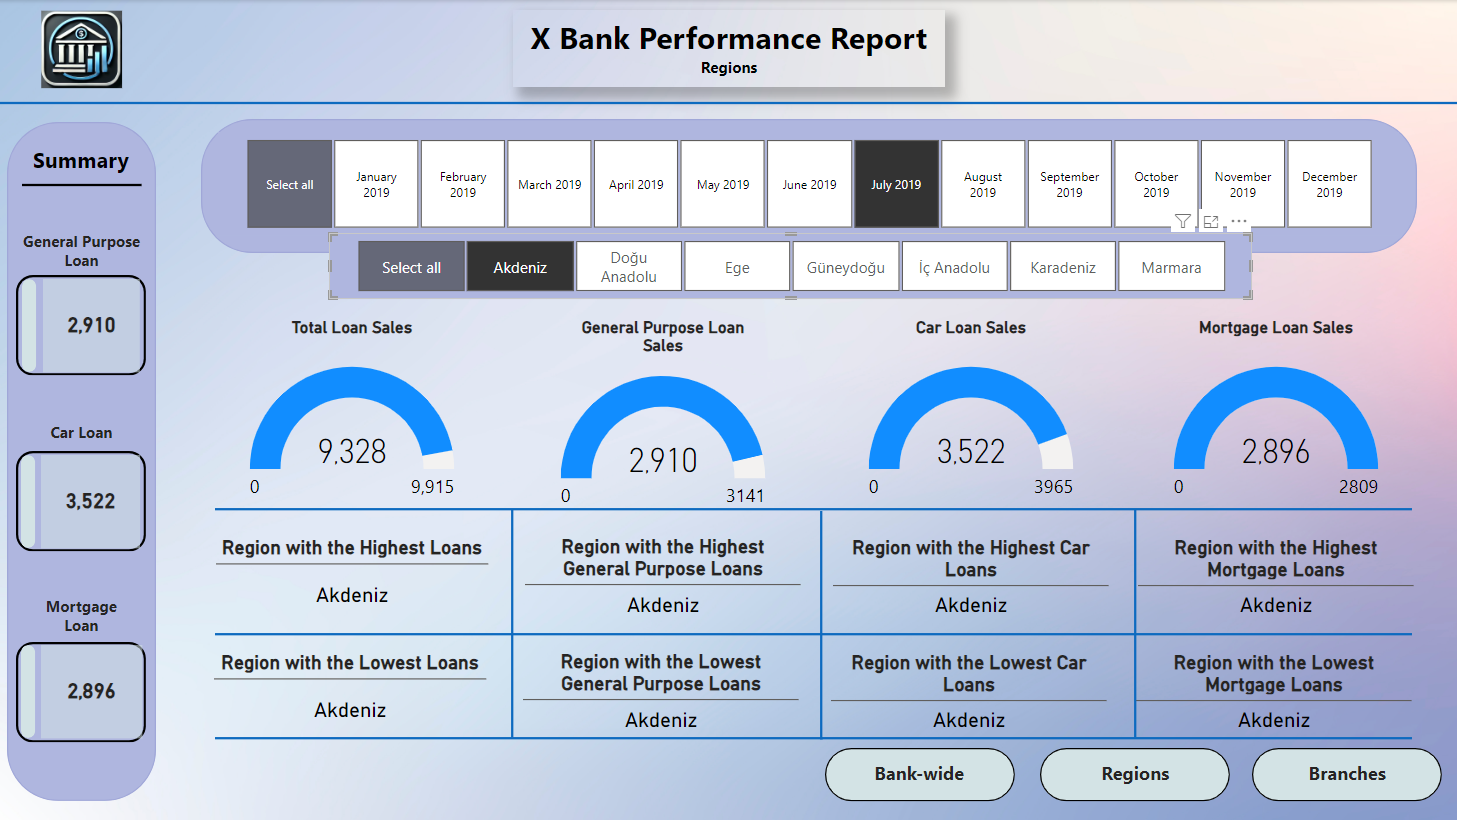

Layout of this report page (visuals, bound fields, positions):
{"tool":"powerbi","page":{"name":"Regions","canvas":[1280,720],"ordinal":1},"visuals":[{"type":"textbox","box":[450.4,8.8,379.3,68.5],"z":0},{"type":"shape","box":[0,58,1280.2,65],"z":1000},{"type":"shape","box":[6.1,107.1,130.8,596.2],"z":2000},{"type":"textbox","box":[14.2,123.3,114.2,39.2],"z":3000},{"type":"shape","box":[19.3,147.5,105.4,29.9],"z":4000},{"type":"shape","box":[14.2,241.7,114.2,88.3],"z":5000},{"type":"shape","box":[14.2,396.2,114.2,88.3],"z":6000},{"type":"shape","box":[14.2,563.3,114.2,88.3],"z":7000},{"type":"textbox","box":[7.5,197.5,127.5,49.2],"z":8000},{"type":"shape","box":[19.2,245,12.5,81.7],"z":9000},{"type":"shape","box":[18.3,399.5,12.5,81.7],"z":10000},{"type":"shape","box":[18.3,566.7,12.5,81.7],"z":11000},{"type":"textbox","box":[30,365.4,83.3,30.8],"z":12000},{"type":"image","box":[20,4.2,102.5,78.3],"z":13000},{"type":"textbox","box":[20,518.3,102.5,45],"z":14000},{"type":"shape","box":[1099.2,656.7,166.7,46.7],"z":15000},{"type":"shape","box":[913.3,656.7,166.7,46.7],"z":16000},{"type":"shape","box":[724.2,656.7,166.7,46.7],"z":17000},{"type":"textbox","box":[745.8,663.3,123.3,33.3],"z":18000},{"type":"textbox","box":[935,663.3,123.3,33.3],"z":19000},{"type":"textbox","box":[1120.8,663.3,123.3,33.3],"z":20000},{"type":"shape","box":[176.5,104.5,1067.7,117.7],"z":21000},{"type":"slicer","fields":{"Values":["Loans.Ay"]},"box":[191.4,115.9,1037,91.3],"z":22000},{"type":"slicer","fields":{"Values":["Branches.Bolgesi"]},"box":[288.9,204.6,810.4,58],"z":23000},{"type":"gauge","title":"Total Loan Sales","fields":{"Y":["Measurements.Total Loan Sales"],"MaxValue":["Measurements.Total Loan Target"]},"box":[214.2,279.2,189.7,190.5],"z":24000},{"type":"gauge","title":"Car Loan Sales","fields":{"Y":["Measurements.Car Loan Sales"],"MaxValue":["Measurements.Car Loan Total Target"]},"box":[757.8,279.2,189.7,190.5],"z":25000},{"type":"gauge","title":"General Purpose Loan Sales","fields":{"Y":["Measurements.General Purpose Loan Sales"],"MaxValue":["Measurements.General Purpose Loan Total Target"]},"box":[487.3,279.2,189.7,190.5],"z":26000},{"type":"gauge","title":"Mortgage Loan Sales ","fields":{"Y":["Measurements.Mortgage Loan Sales"],"MaxValue":["Measurements.Mortgage Loan Total Target"]},"box":[1025.6,279.2,189.7,190.5],"z":27000},{"type":"card","fields":{"Values":["Measurements.General Purpose Loan Sales"]},"box":[37.8,245,85.2,81.7],"z":28000},{"type":"card","fields":{"Values":["Measurements.Car Loan Sales"]},"box":[36,399.5,86.9,81.7],"z":29000},{"type":"card","fields":{"Values":["Measurements.Mortgage Loan Sales"]},"box":[36,566.3,88.7,81.7],"z":30000},{"type":"card","title":"Region with the Highest Loans","fields":{"Values":["Min(Branches.Bolgesi)"]},"box":[189.7,470.6,238.8,77.3],"z":31000},{"type":"card","title":"Region with the Highest General Purpose Loans","fields":{"Values":["Min(Branches.Bolgesi)"]},"box":[461,469.8,242.3,78.1],"z":32000},{"type":"card","title":"Region with the Highest Mortgage Loans","fields":{"Values":["Min(Branches.Bolgesi)"]},"box":[999.2,470.6,242.3,77.3],"z":33000},{"type":"card","title":"Region with the Highest Car Loans","fields":{"Values":["Min(Branches.Bolgesi)"]},"box":[731.4,470.6,242.3,77.3],"z":34000},{"type":"card","title":"Region with the Lowest Loans","fields":{"Values":["Min(Branches.Bolgesi)"]},"box":[188.2,572,238.8,77.3],"z":35000},{"type":"card","title":"Region with the Lowest General Purpose Loans","fields":{"Values":["Min(Branches.Bolgesi)"]},"box":[459.6,571.1,242.3,78.1],"z":36000},{"type":"card","title":"Region with the Lowest Mortgage Loans","fields":{"Values":["Min(Branches.Bolgesi)"]},"box":[997.8,572,242.3,77.3],"z":37000},{"type":"card","title":"Region with the Lowest Car Loans","fields":{"Values":["Min(Branches.Bolgesi)"]},"box":[730,572,242.3,77.3],"z":38000},{"type":"shape","box":[188.7,440.6,1051.4,12.6],"z":39000},{"type":"shape","box":[188.7,641.9,1051.4,12.6],"z":40000},{"type":"shape","box":[188.7,550.5,1051.4,12.6],"z":41000},{"type":"shape","box":[443.3,447.3,12.7,200.7],"z":42000},{"type":"shape","box":[714.7,448.7,12.7,200.7],"z":43000},{"type":"shape","box":[990,447.3,12.7,200.7],"z":44000}]}

Visuals, with their boxes in screenshot pixels (x1, y1, x2, y2), scaled from the page's 1280x720 canvas onto the 1457x820 screenshot:
textbox: left=513, top=10, right=944, bottom=88
shape: left=0, top=66, right=1456, bottom=140
shape: left=7, top=122, right=156, bottom=801
textbox: left=16, top=140, right=146, bottom=185
shape: left=22, top=168, right=142, bottom=202
shape: left=16, top=275, right=146, bottom=376
shape: left=16, top=451, right=146, bottom=552
shape: left=16, top=642, right=146, bottom=742
textbox: left=9, top=225, right=154, bottom=281
shape: left=22, top=279, right=36, bottom=372
shape: left=21, top=455, right=35, bottom=548
shape: left=21, top=645, right=35, bottom=738
textbox: left=34, top=416, right=129, bottom=451
image: left=23, top=5, right=139, bottom=94
textbox: left=23, top=590, right=139, bottom=642
shape: left=1251, top=748, right=1441, bottom=801
shape: left=1040, top=748, right=1229, bottom=801
shape: left=824, top=748, right=1014, bottom=801
textbox: left=849, top=755, right=989, bottom=793
textbox: left=1064, top=755, right=1205, bottom=793
textbox: left=1276, top=755, right=1416, bottom=793
shape: left=201, top=119, right=1416, bottom=253
slicer - Loans.Ay: left=218, top=132, right=1398, bottom=236
slicer - Branches.Bolgesi: left=329, top=233, right=1251, bottom=299
"Total Loan Sales" gauge: left=244, top=318, right=460, bottom=535
"Car Loan Sales" gauge: left=863, top=318, right=1079, bottom=535
"General Purpose Loan Sales" gauge: left=555, top=318, right=771, bottom=535
"Mortgage Loan Sales " gauge: left=1167, top=318, right=1383, bottom=535
card - Measurements.General Purpose Loan Sales: left=43, top=279, right=140, bottom=372
card - Measurements.Car Loan Sales: left=41, top=455, right=140, bottom=548
card - Measurements.Mortgage Loan Sales: left=41, top=645, right=142, bottom=738
"Region with the Highest Loans" card: left=216, top=536, right=488, bottom=624
"Region with the Highest General Purpose Loans" card: left=525, top=535, right=801, bottom=624
"Region with the Highest Mortgage Loans" card: left=1137, top=536, right=1413, bottom=624
"Region with the Highest Car Loans" card: left=833, top=536, right=1108, bottom=624
"Region with the Lowest Loans" card: left=214, top=651, right=486, bottom=739
"Region with the Lowest General Purpose Loans" card: left=523, top=650, right=799, bottom=739
"Region with the Lowest Mortgage Loans" card: left=1136, top=651, right=1412, bottom=739
"Region with the Lowest Car Loans" card: left=831, top=651, right=1107, bottom=739
shape: left=215, top=502, right=1412, bottom=516
shape: left=215, top=731, right=1412, bottom=745
shape: left=215, top=627, right=1412, bottom=641
shape: left=505, top=509, right=519, bottom=738
shape: left=814, top=511, right=828, bottom=740
shape: left=1127, top=509, right=1141, bottom=738
